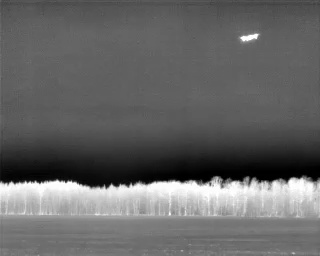DRONE: (235, 28, 263, 48)
